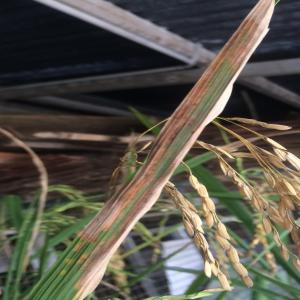Bacterial_Blight: (60, 186, 129, 300)
